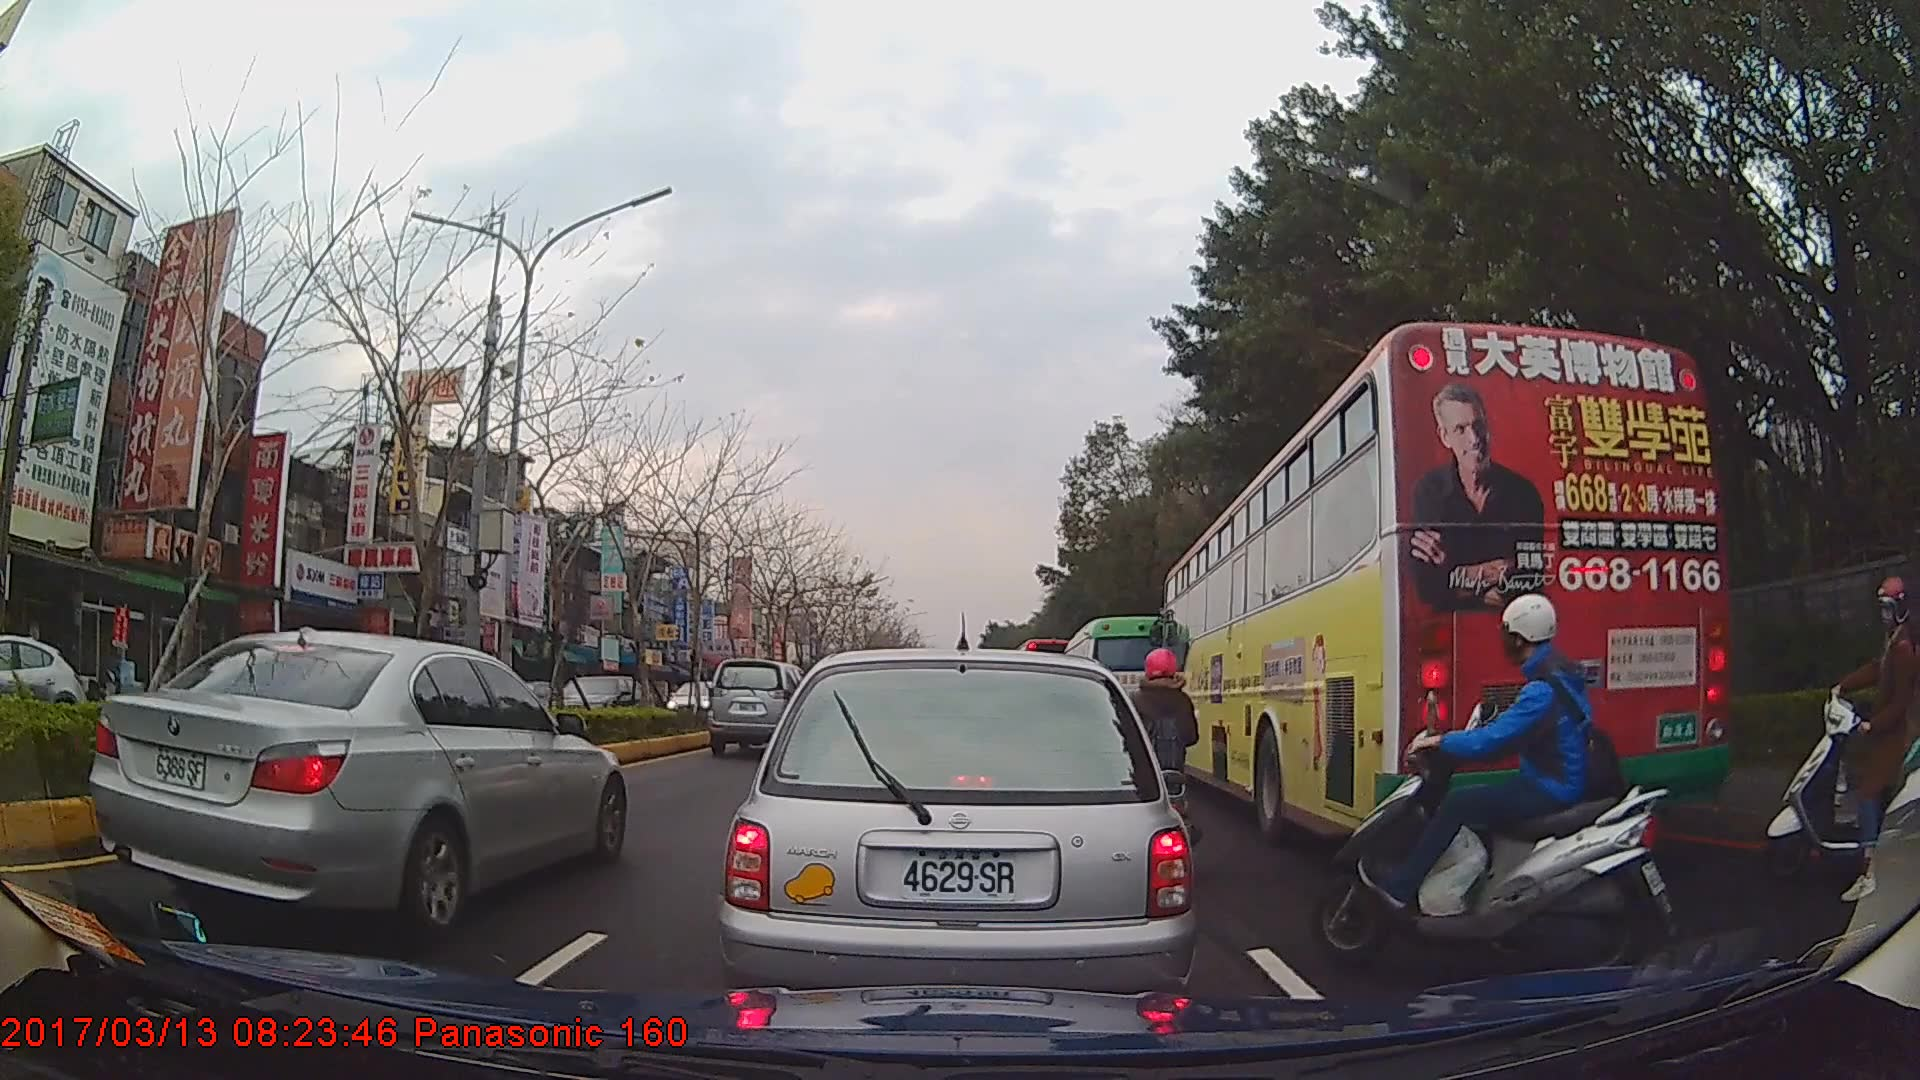rider: (1300, 596, 1680, 974), (1771, 572, 1916, 897), (1117, 645, 1205, 856)
vehicle: (1160, 320, 1727, 854), (716, 646, 1195, 1032), (87, 621, 626, 938), (1060, 615, 1187, 758), (708, 656, 819, 755), (540, 672, 649, 730)
